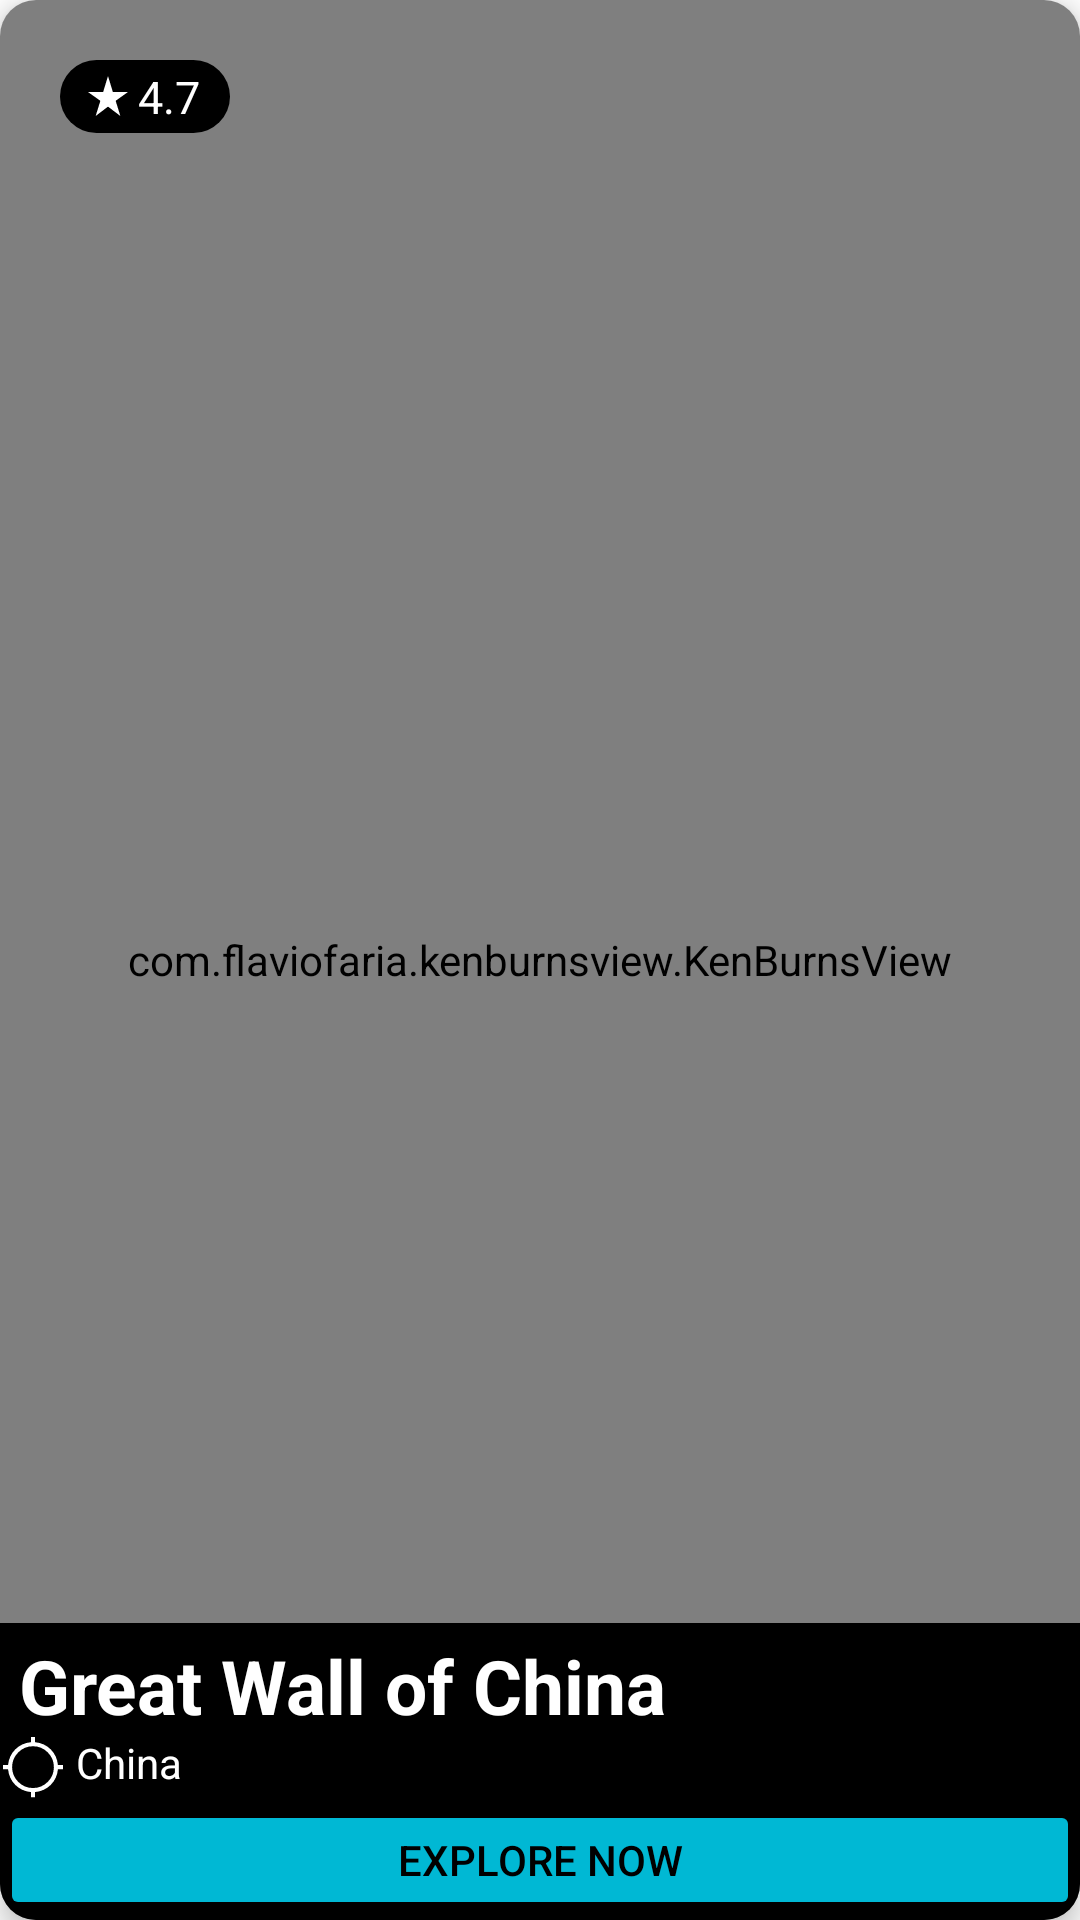

Screen size 1080x1920. Icon name, then its box in pixels as box(x1, y1, x2, y2):
starrate: box(88, 76, 128, 116)
